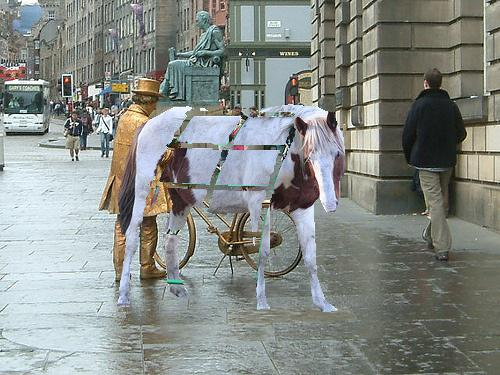tampered: (118, 105, 345, 312)
